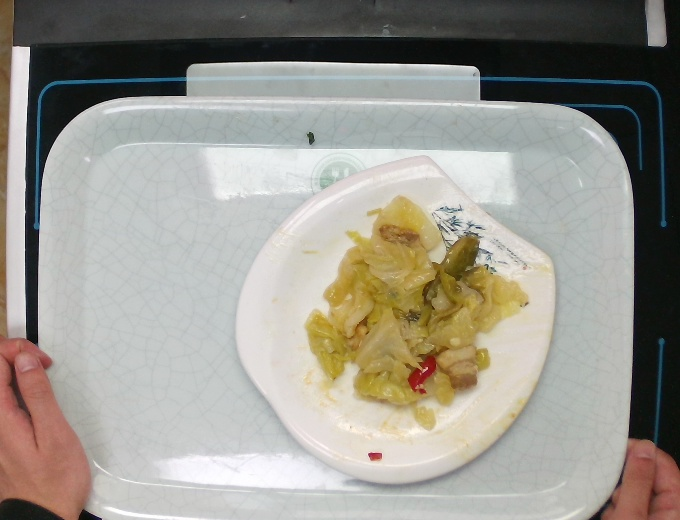JYsf-Mian_Pan: (234, 155, 557, 485)
